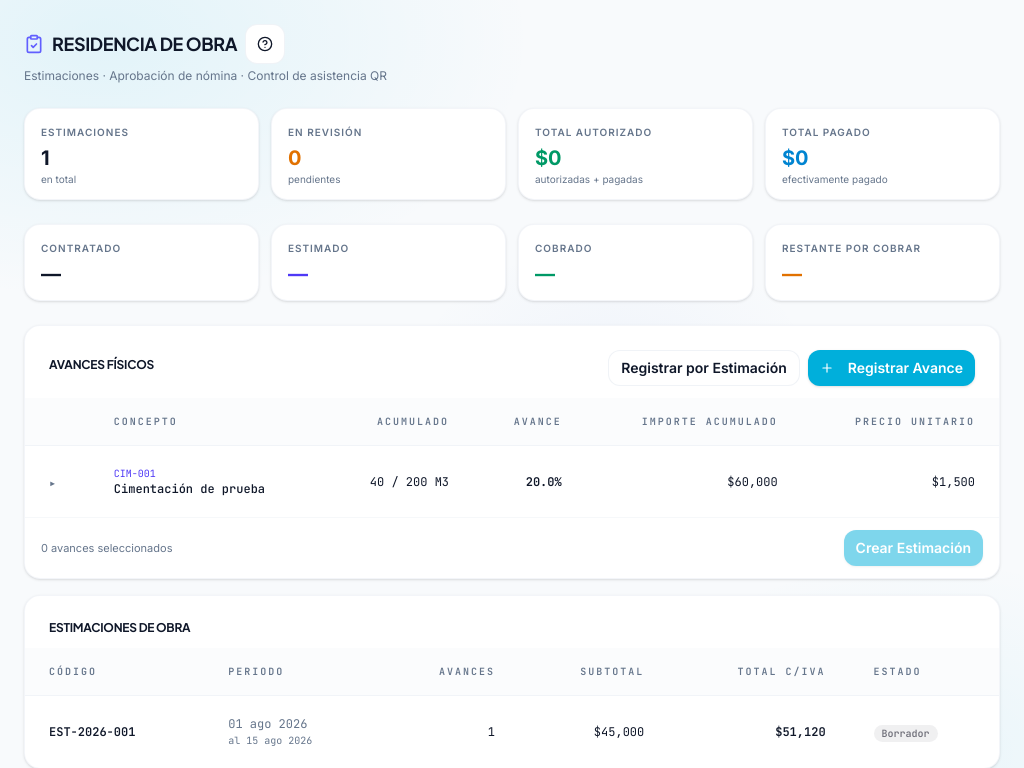
ResidenciaView — Registrar avance físico (5.7-5.10) › el registro de avance usa un selector de concepto del catálogo, no texto libre
The width and height of the screenshot is (1024, 768).
Expected: the text "EST-2026-001" is shown, [25, 696, 204, 767]
Click the button "Registrar Avance".
click(891, 368)  # box [808, 350, 975, 386]
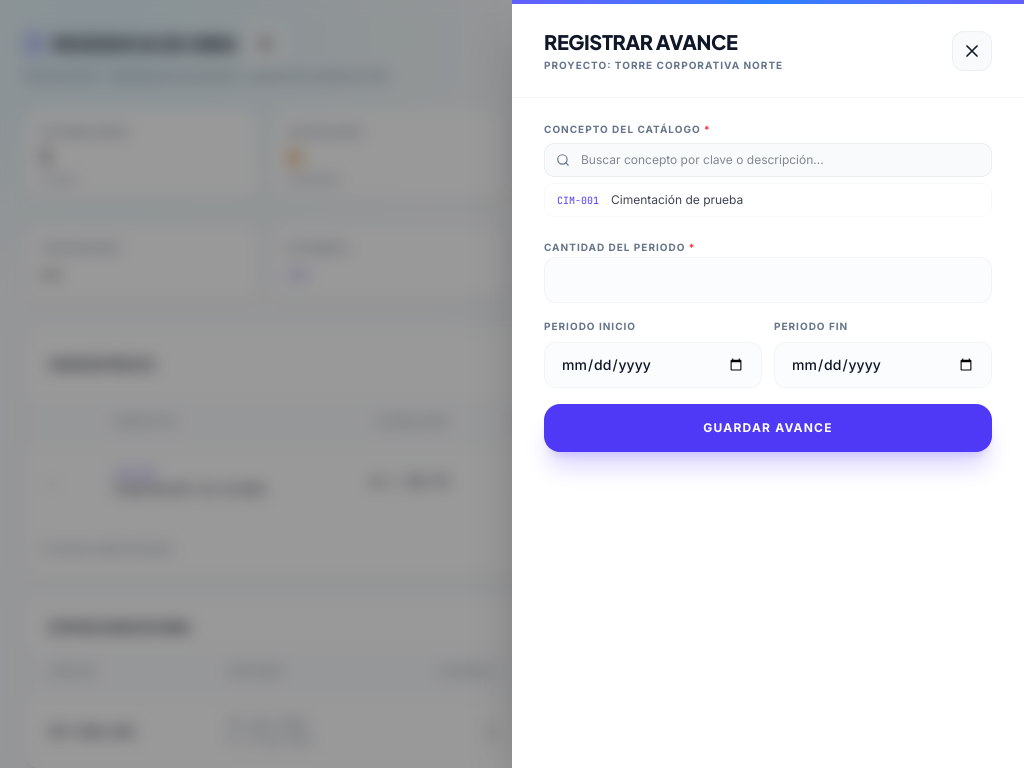
Now the field with placeholder "Buscar concepto por clave o descripción..." is shown, box [544, 143, 992, 177]
